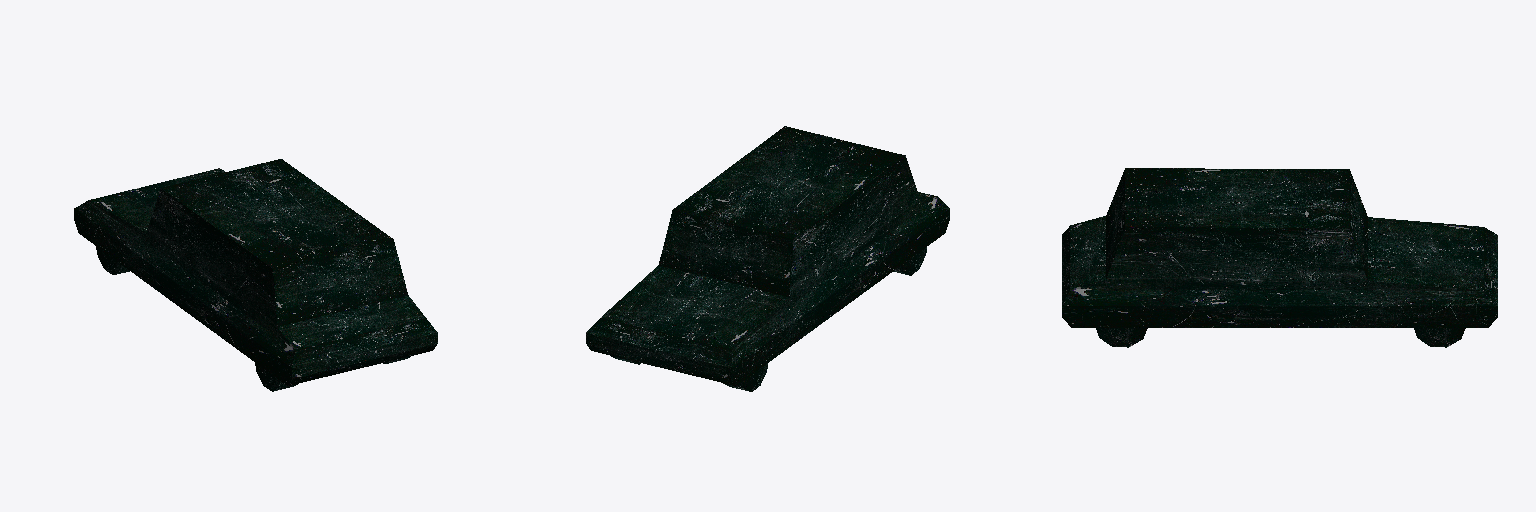
3 renders of one model, left to right at view 1: azimuth 30°, elevation 25°; view 2: azimuth 150°, elevation 25°; view 3: azimuth 270°, elevation 25°, orthographic.
Parts seen in each view (by area): view 1: car:polySurface14; view 2: car:polySurface14; view 3: car:polySurface14.
Boxes of the visible parts, box(x1,y1,x2,y2) form: car:polySurface14: box(74, 159, 437, 391); car:polySurface14: box(586, 126, 949, 391); car:polySurface14: box(1062, 168, 1497, 347).
Size of the model in its own units: 6.09 by 4.68 by 15.81.
1 materials, 1 textured.